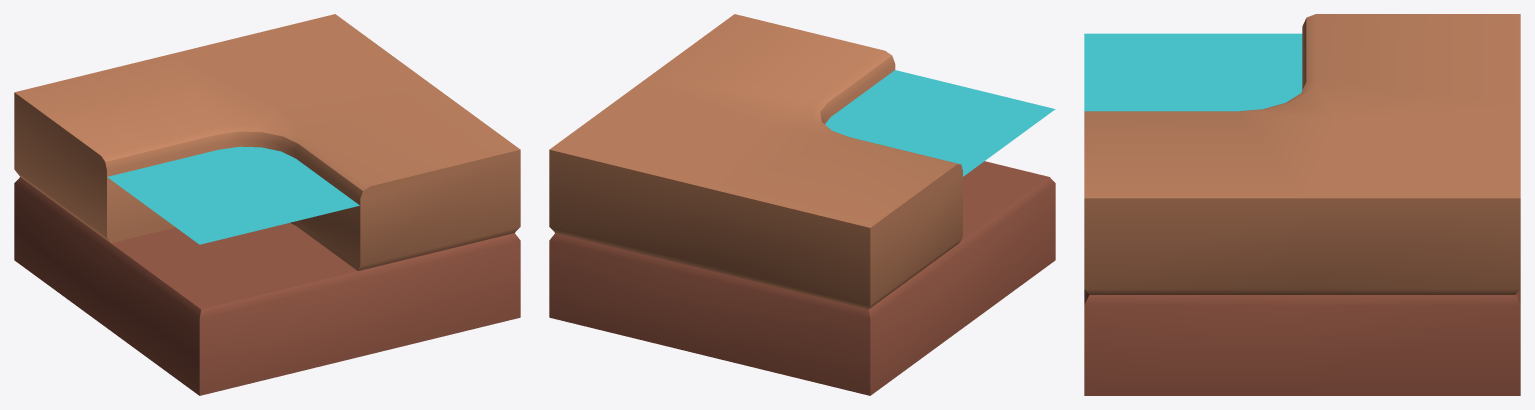
Rendered from kaykit-square-rock-waterinnercorner-nosides.glb.
3 views of the same model, side by side, from view 1: azimuth 30°, elevation 25°; view 2: azimuth 150°, elevation 25°; view 3: azimuth 270°, elevation 25° (orthographic). The views are drawn at different scales.
Parts seen in each view (by area): view 1: square_rock_waterInnerCorner_noSides; view 2: square_rock_waterInnerCorner_noSides; view 3: square_rock_waterInnerCorner_noSides.
Part boxes in pixels (bbox=[...]): square_rock_waterInnerCorner_noSides: bbox=[14, 14, 520, 395]; square_rock_waterInnerCorner_noSides: bbox=[549, 14, 1055, 395]; square_rock_waterInnerCorner_noSides: bbox=[1084, 14, 1520, 395].
Bounding box in the file's own units: 2 × 1 × 2.
